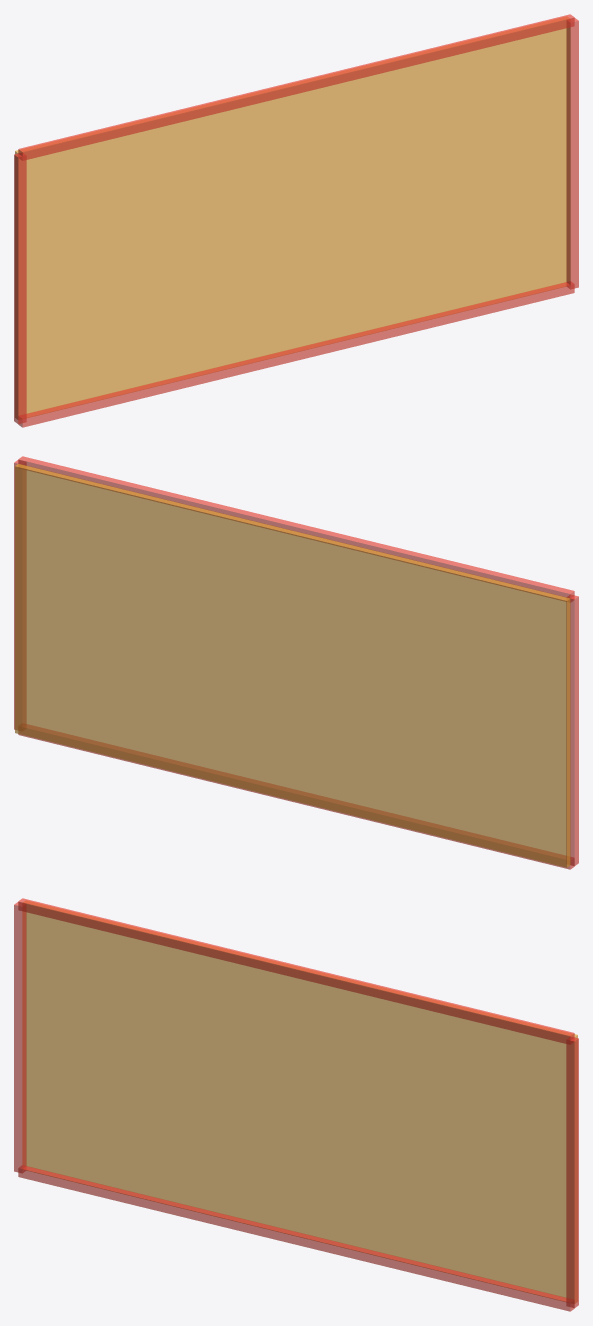
The model's file is telegraph_rectangular_zone.glb.
The picture shows the model from 3 angles, top to bottom: view 1: azimuth 30°, elevation 25°; view 2: azimuth 150°, elevation 25°; view 3: azimuth 330°, elevation 25°; orthographic projection.
Visible parts, largest first — view 1: fill, n, s, w, e; view 2: fill, n, s, w, e; view 3: fill, n, s, e, w.
Part boxes in pixels (x1,y1,x2,y2): fill: [15, 16, 570, 419]; n: [18, 14, 574, 160]; s: [18, 281, 574, 427]; w: [14, 153, 26, 424]; e: [566, 18, 578, 288]; fill: [15, 464, 570, 867]; n: [18, 456, 574, 601]; s: [18, 724, 574, 869]; w: [567, 595, 578, 866]; e: [14, 460, 26, 729]; fill: [22, 900, 577, 1303]; n: [18, 898, 574, 1044]; s: [18, 1165, 574, 1311]; e: [566, 1037, 578, 1308]; w: [14, 902, 26, 1172].
Bounding box in the file's own units: 2.64 × 1.24 × 0.0625.
